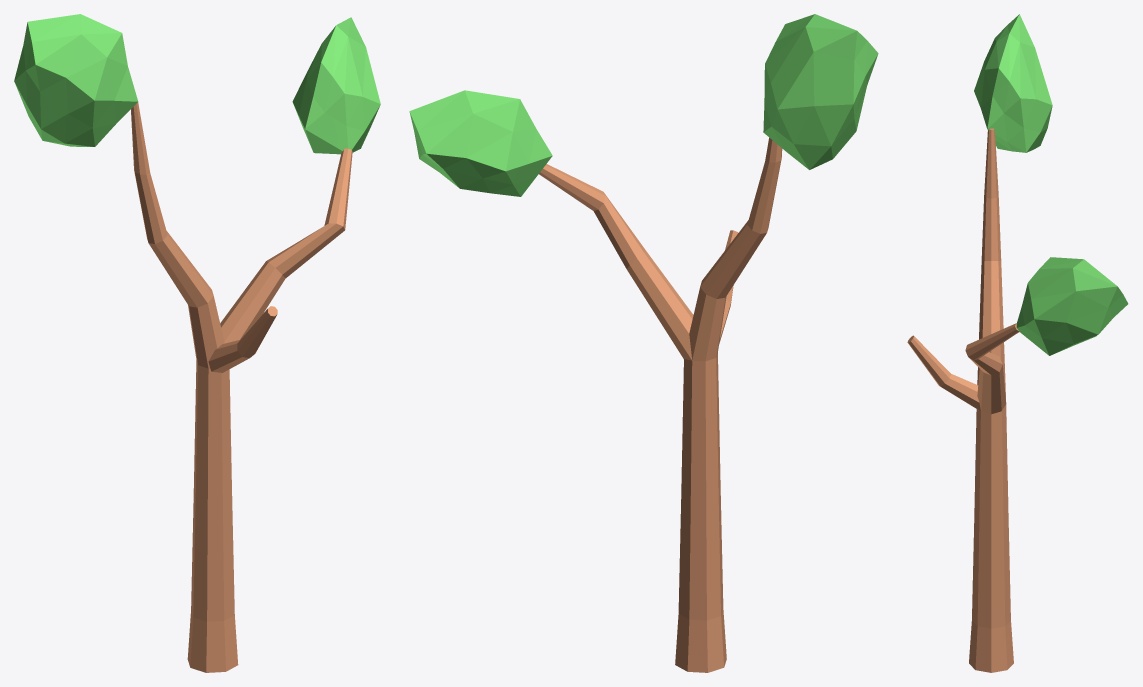
Rendered from Tree_5.fbx.
3 renders of one model, left to right at view 1: azimuth 30°, elevation 25°; view 2: azimuth 150°, elevation 25°; view 3: azimuth 270°, elevation 25°, orthographic. The views are drawn at different scales.
Parts seen in each view (by area): view 1: Tree_5; view 2: Tree_5; view 3: Tree_5.
Boxes of the visible parts, x1,y1,x2,y2 form: Tree_5: [14, 14, 380, 672]; Tree_5: [409, 14, 878, 672]; Tree_5: [907, 14, 1128, 672].
Bounding box in the file's own units: 2289 × 3772 × 1306.
